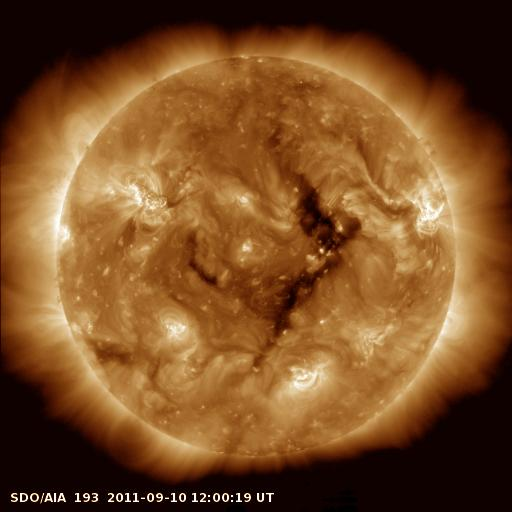coronal_hole: (248, 177, 366, 368), (186, 235, 221, 285)
